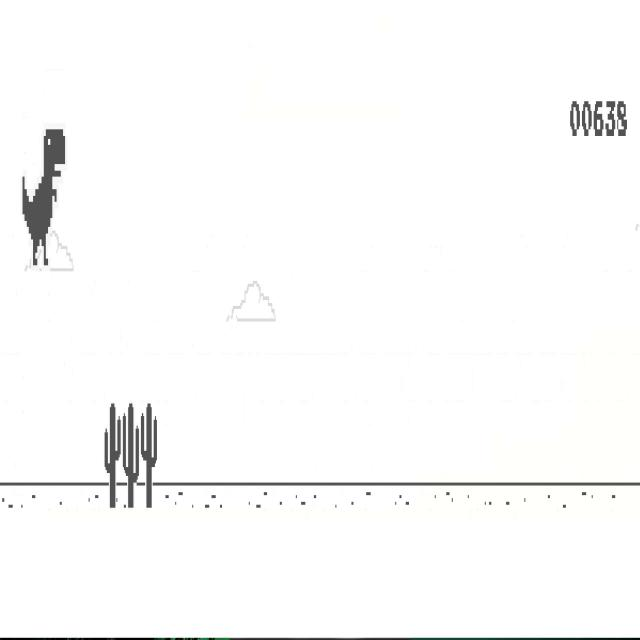cacto: (122, 402, 140, 509), (140, 402, 158, 509), (104, 402, 121, 509)
dino: (23, 128, 66, 267)
